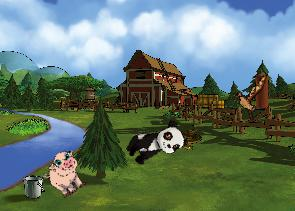eagle: (232, 73, 268, 120)
panda: (122, 117, 189, 170)
pig: (38, 146, 93, 202)
